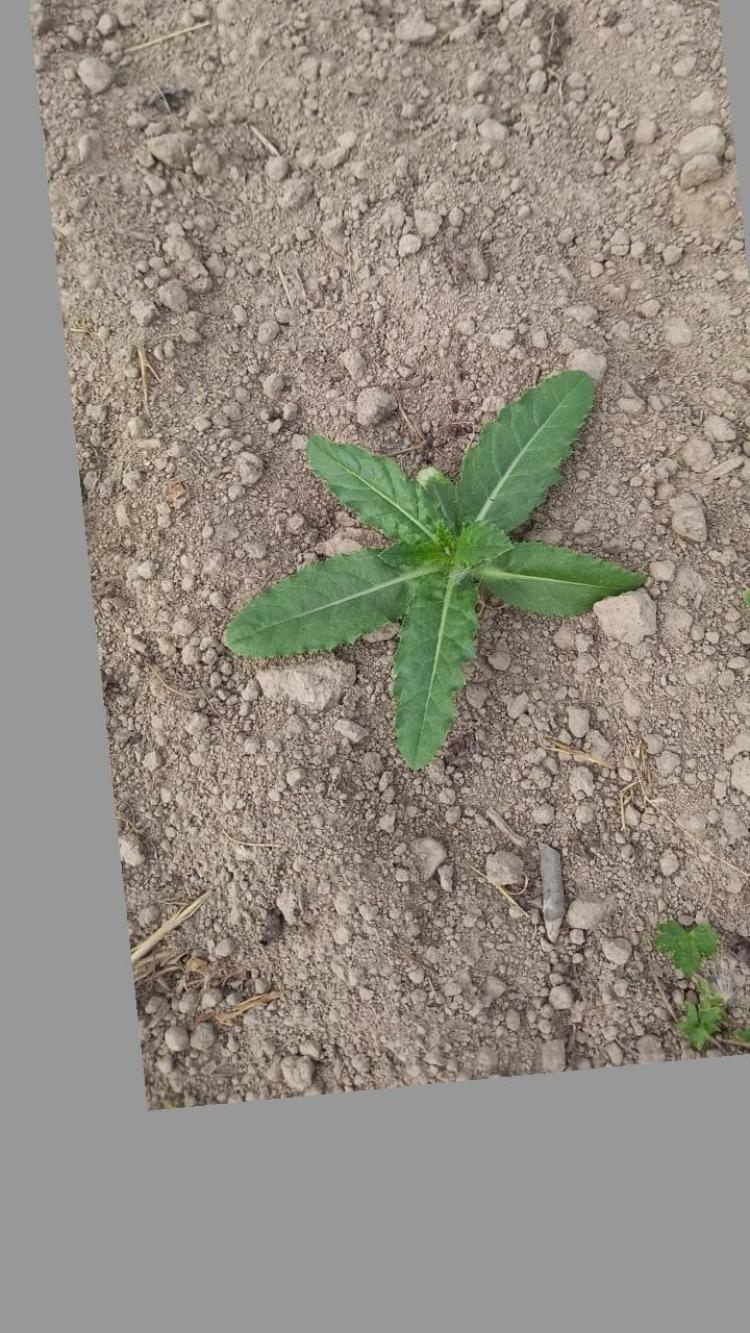osot: (221, 364, 650, 773)
